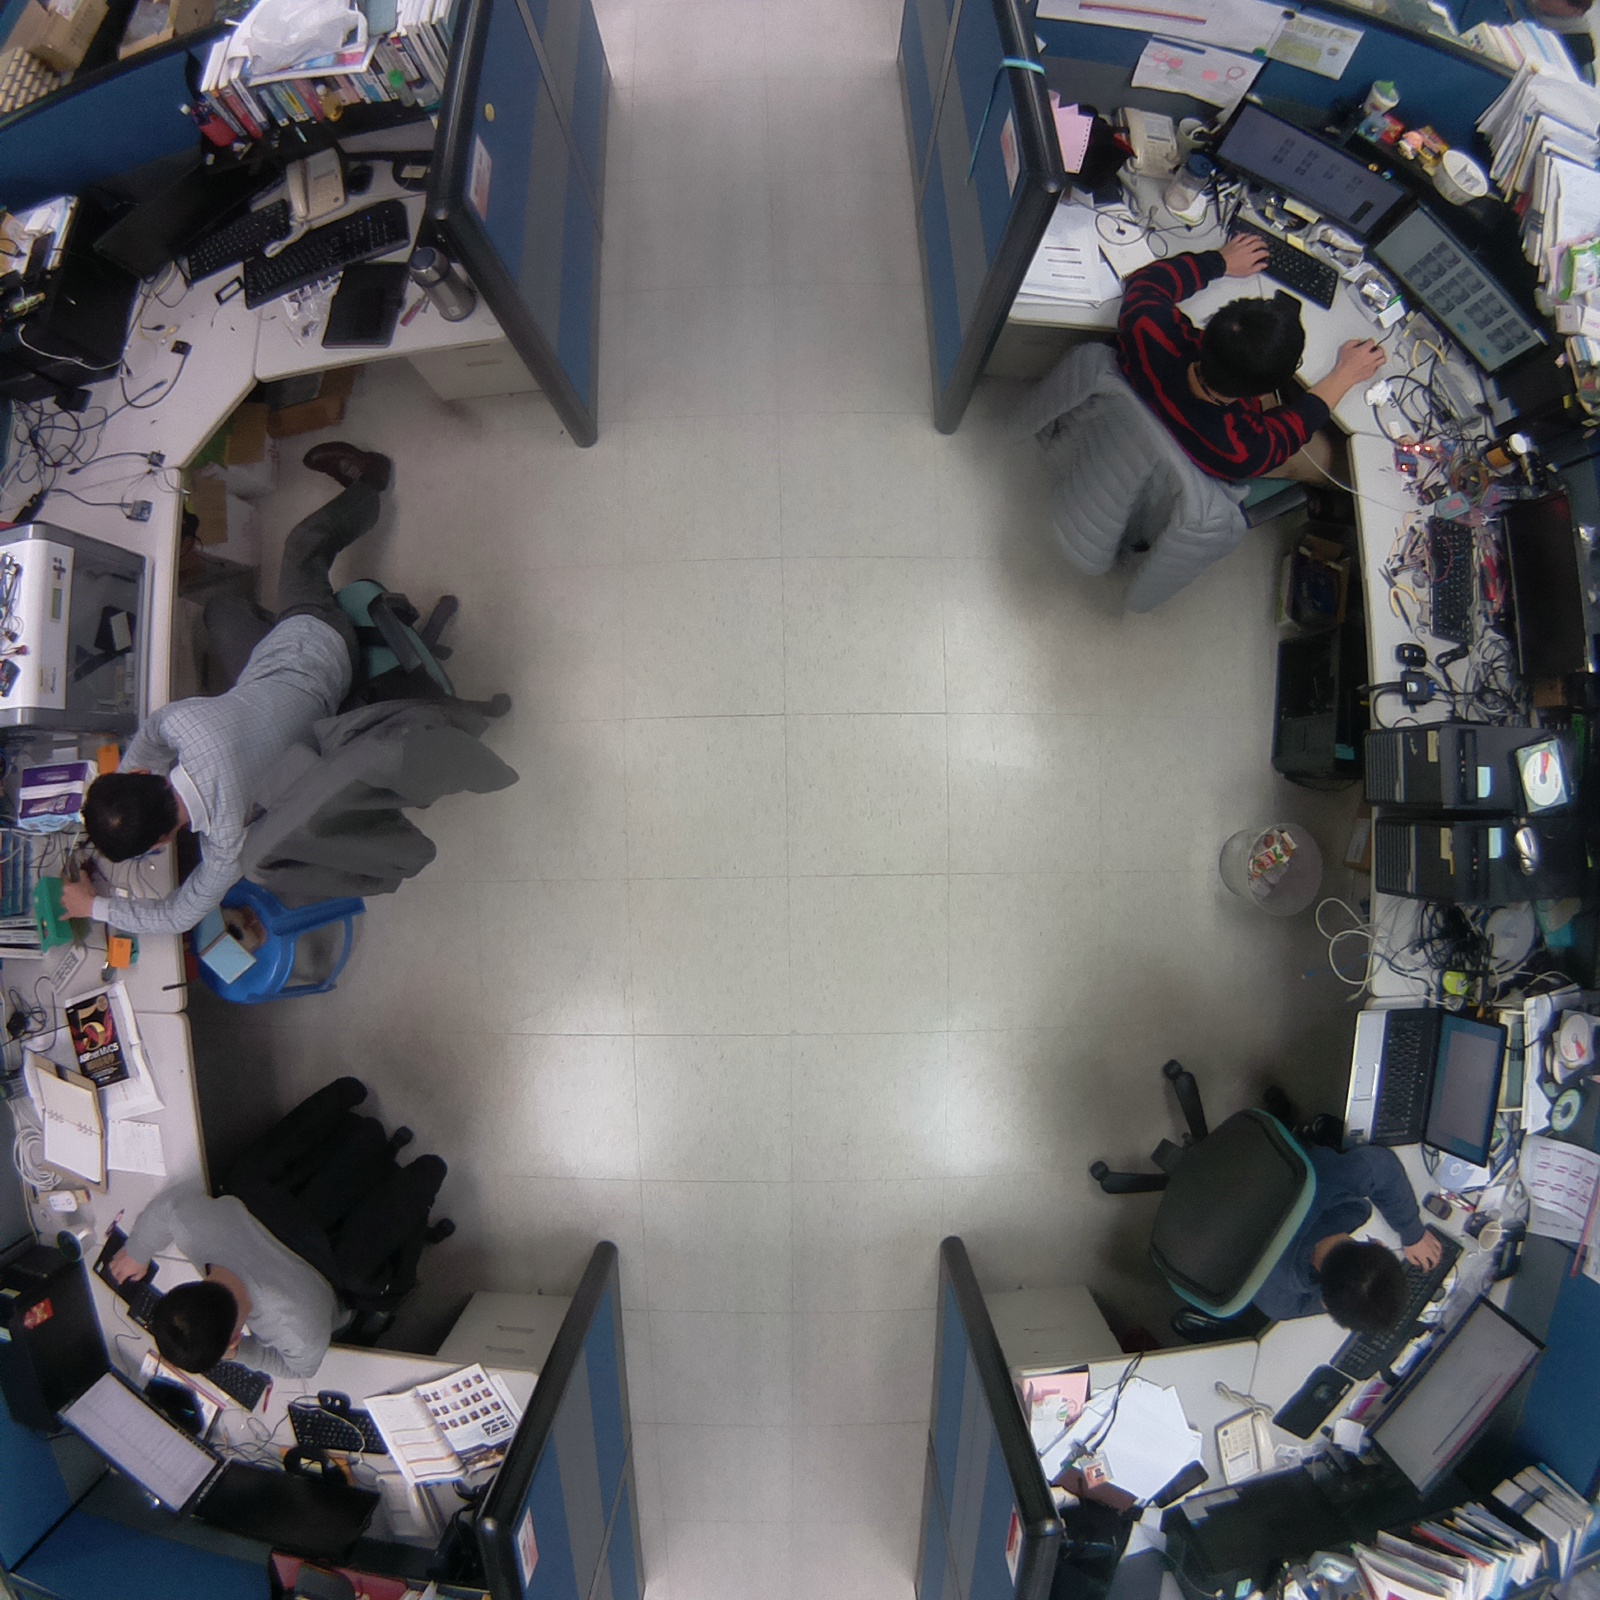head: (1185, 291, 1315, 402), (1308, 1225, 1419, 1346), (74, 763, 189, 868), (149, 1272, 249, 1378)
sitting: (56, 422, 529, 946), (1001, 223, 1387, 617), (96, 1058, 468, 1386), (1068, 1042, 1448, 1346)
